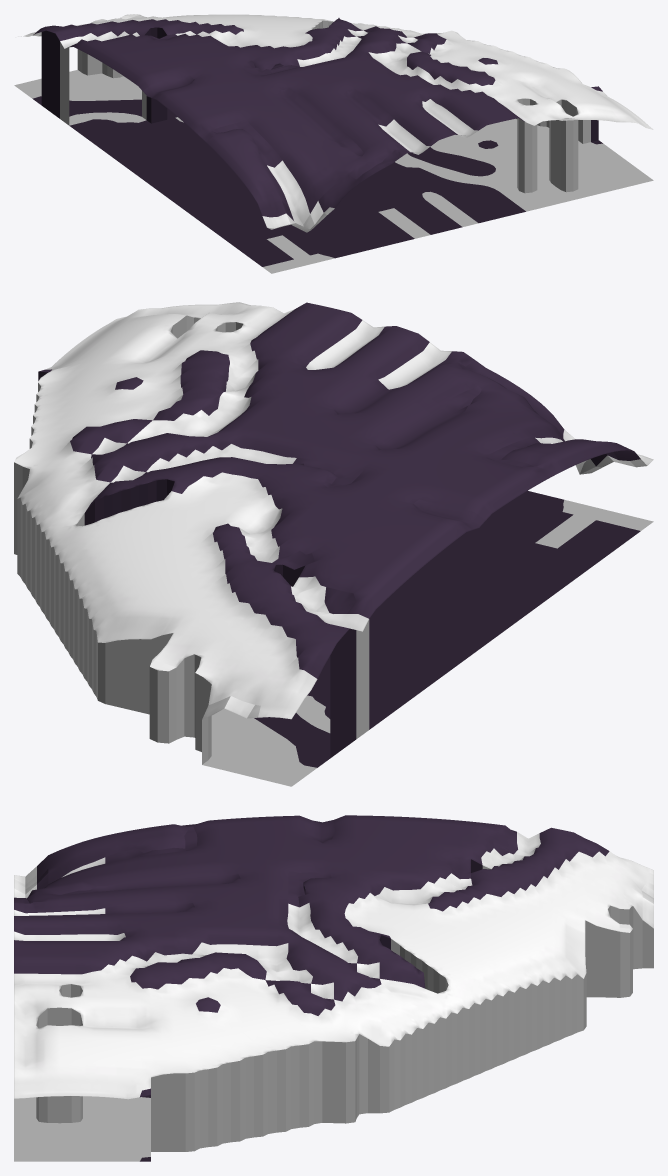
Rendered from delbld-hull-552.glb.
The picture shows the model from 3 angles, top to bottom: view 1: azimuth 30°, elevation 25°; view 2: azimuth 150°, elevation 25°; view 3: azimuth 270°, elevation 25°; orthographic projection. The views are drawn at different scales.
Parts seen in each view (by area): view 1: delbld-hull-552; view 2: delbld-hull-552; view 3: delbld-hull-552.
Boxes of the visible parts, <box> form: delbld-hull-552: <box>14,14,653,273</box>; delbld-hull-552: <box>14,302,653,786</box>; delbld-hull-552: <box>14,815,653,1161</box>.
Bounding box in the file's own units: 2 × 0.4799 × 2.33.
Materials: 4 (4 with a texture image).
